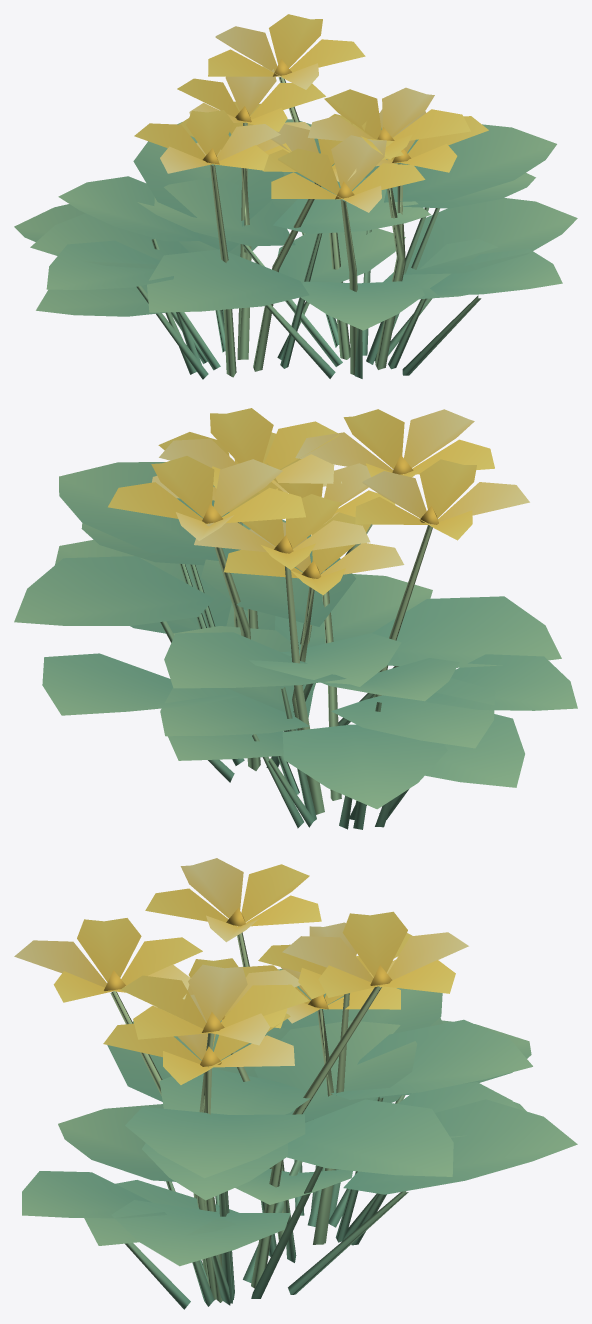
The model's file is kingcup_patch_b_mid.glb.
The picture shows the model from 3 angles, top to bottom: view 1: azimuth 30°, elevation 25°; view 2: azimuth 150°, elevation 25°; view 3: azimuth 270°, elevation 25°; orthographic projection. The views are drawn at different scales.
Parts seen in each view (by area): view 1: soft; view 2: soft; view 3: soft.
Part boxes in pixels (x1,y1,x2,y2): soft: (14,14,577,379); soft: (14,408,577,829); soft: (14,858,577,1309).
Size of the model in its own units: 0.6973 by 0.384 by 0.5894.
